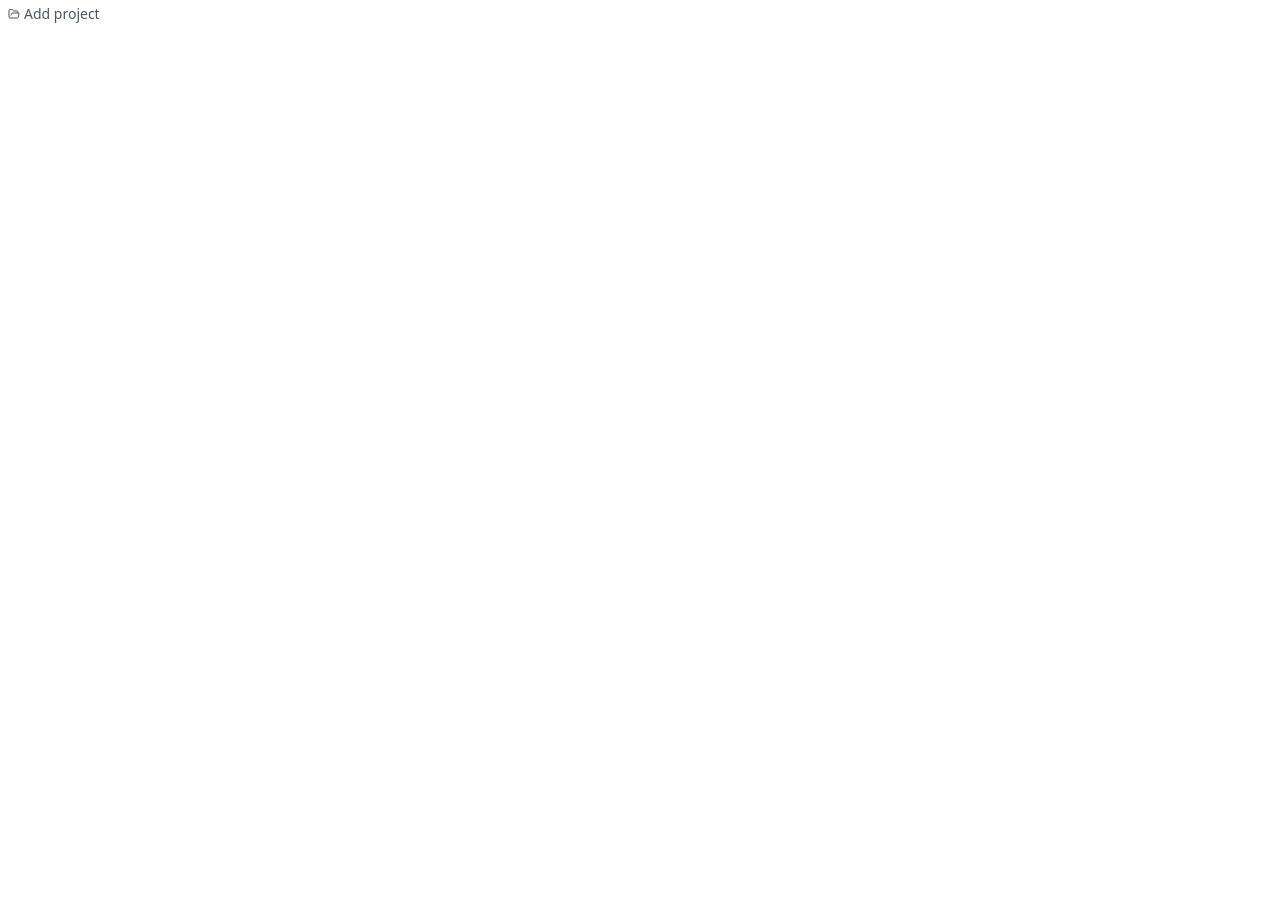
ProjectPicker › opens project list when trigger is clicked
The width and height of the screenshot is (1280, 900).
Click the text "Add project": (54, 14) [8,4,100,23]
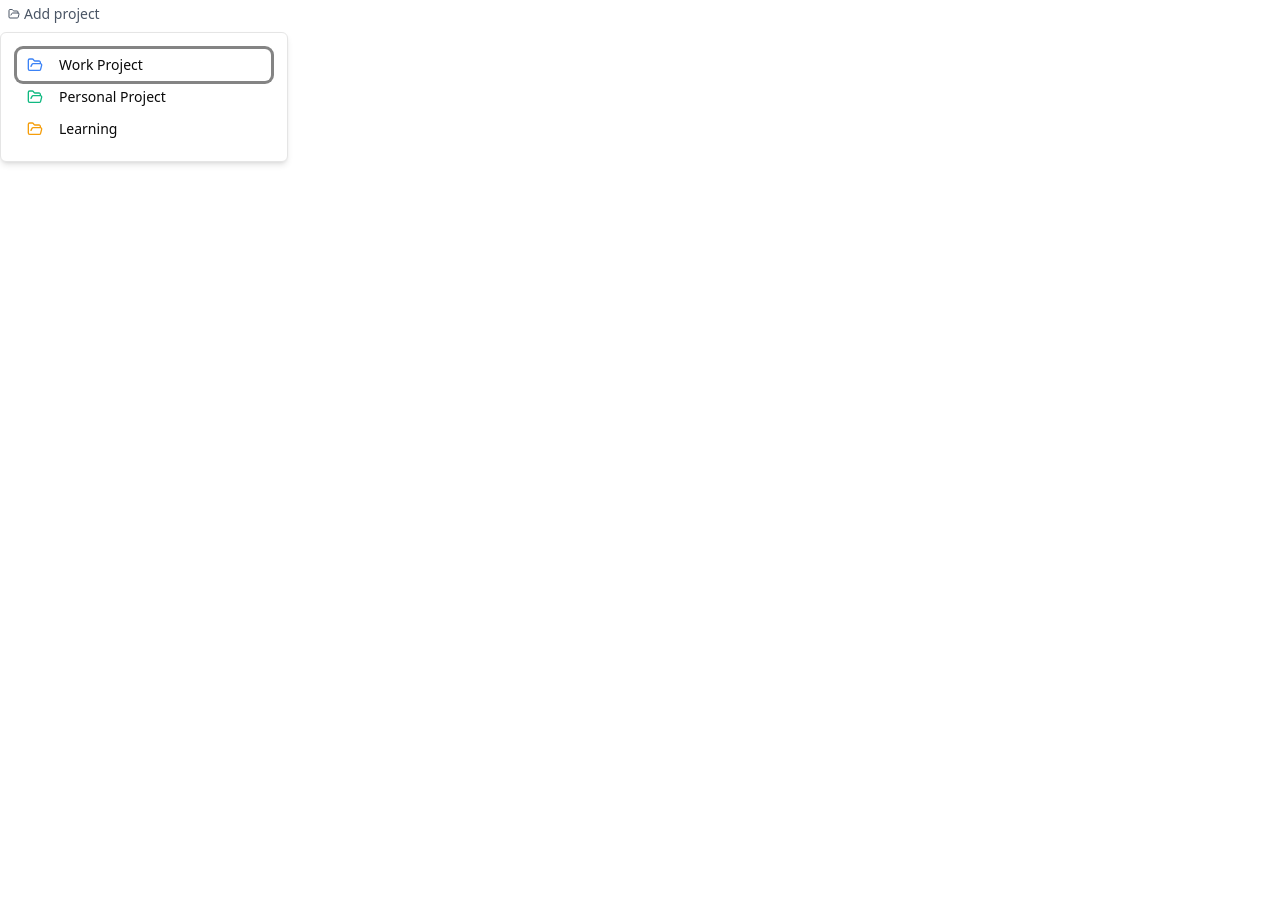
Expected: the button "Work Project" is shown, [17,49,271,81]
Expected: the button "Personal Project" is shown, [17,81,271,113]
Expected: the button "Learning" is shown, [17,113,271,145]
